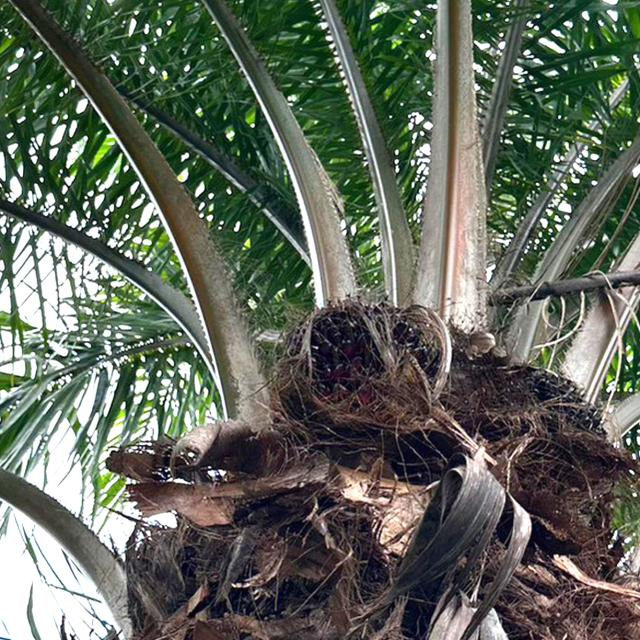ripe: (277, 282, 444, 444)
